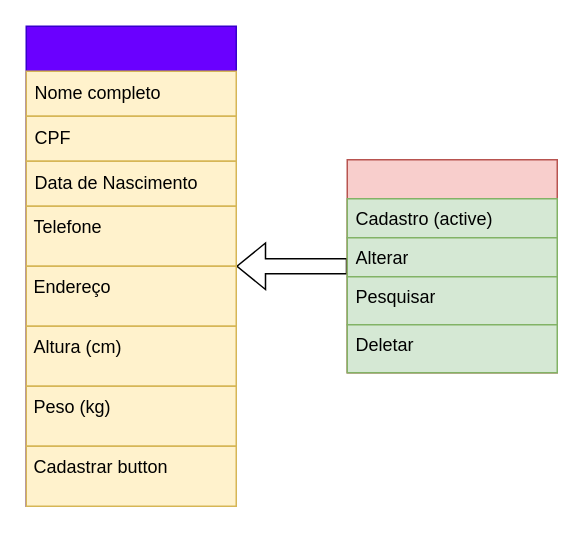
Some shapes in this 584 by 533 pixel diagram are drawn without their labels. The box of each missing label's shape, as (x1, y1, x2, y2) in pixels:
CADASTRO FORM: (25, 25, 236, 506)
NAVEGAÇÃO: (346, 158, 557, 373)
